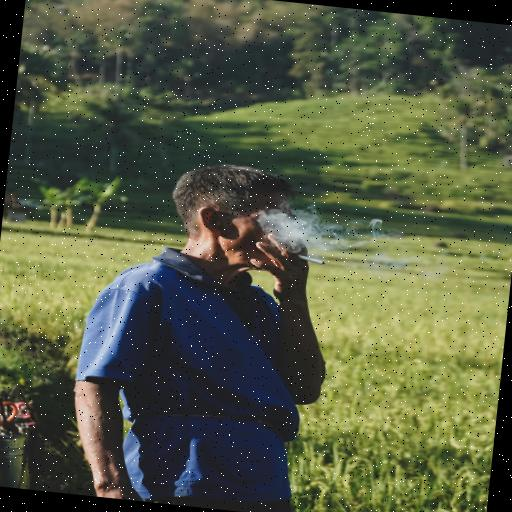terdeteksi merokok: (249, 205, 338, 286)
